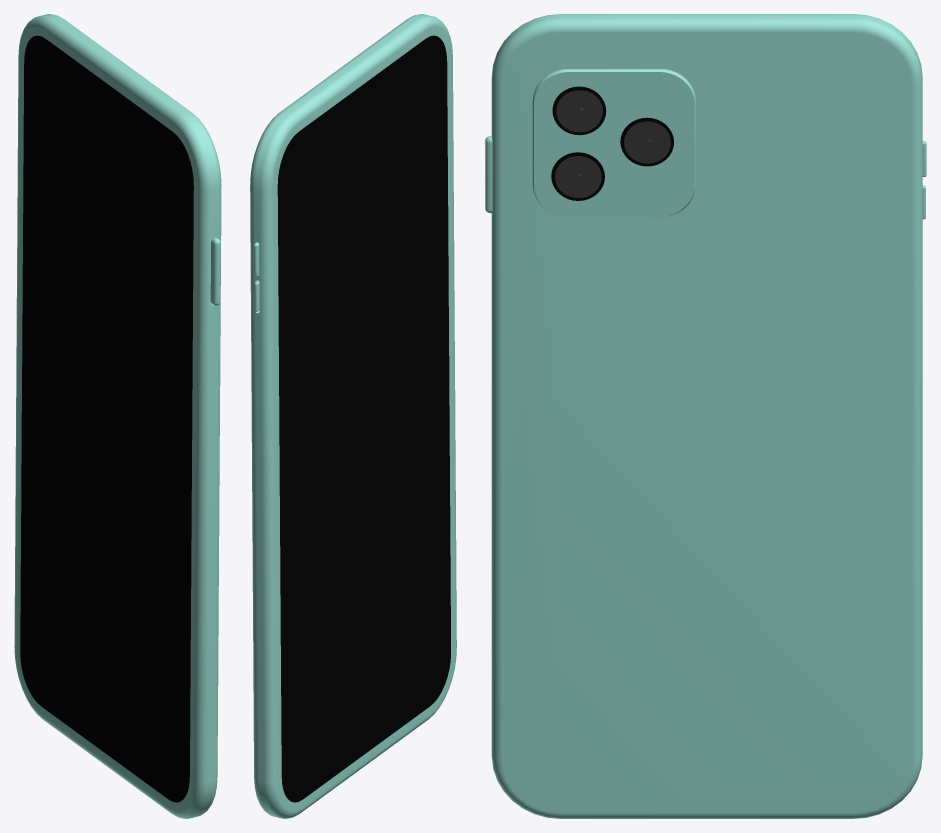
The model's file is Iphone12.gltf.
3 views of the same model, side by side, from view 1: azimuth 30°, elevation 25°; view 2: azimuth 150°, elevation 25°; view 3: azimuth 270°, elevation 25° (orthographic). The views are drawn at different scales.
Parts seen in each view (by area): view 1: Plane; view 2: Plane; view 3: Plane, Plane.001, Circle.002, Circle.001, Circle.
Part boxes in pixels (x1,y1,x2,y2): Plane: [14, 14, 221, 818]; Plane: [250, 14, 456, 818]; Plane: [485, 14, 926, 818]; Plane.001: [532, 69, 695, 217]; Circle.002: [620, 117, 673, 166]; Circle.001: [551, 152, 604, 200]; Circle: [552, 86, 606, 135].
Size of the model in its own units: 0.1142 by 2.44 by 1.22.
